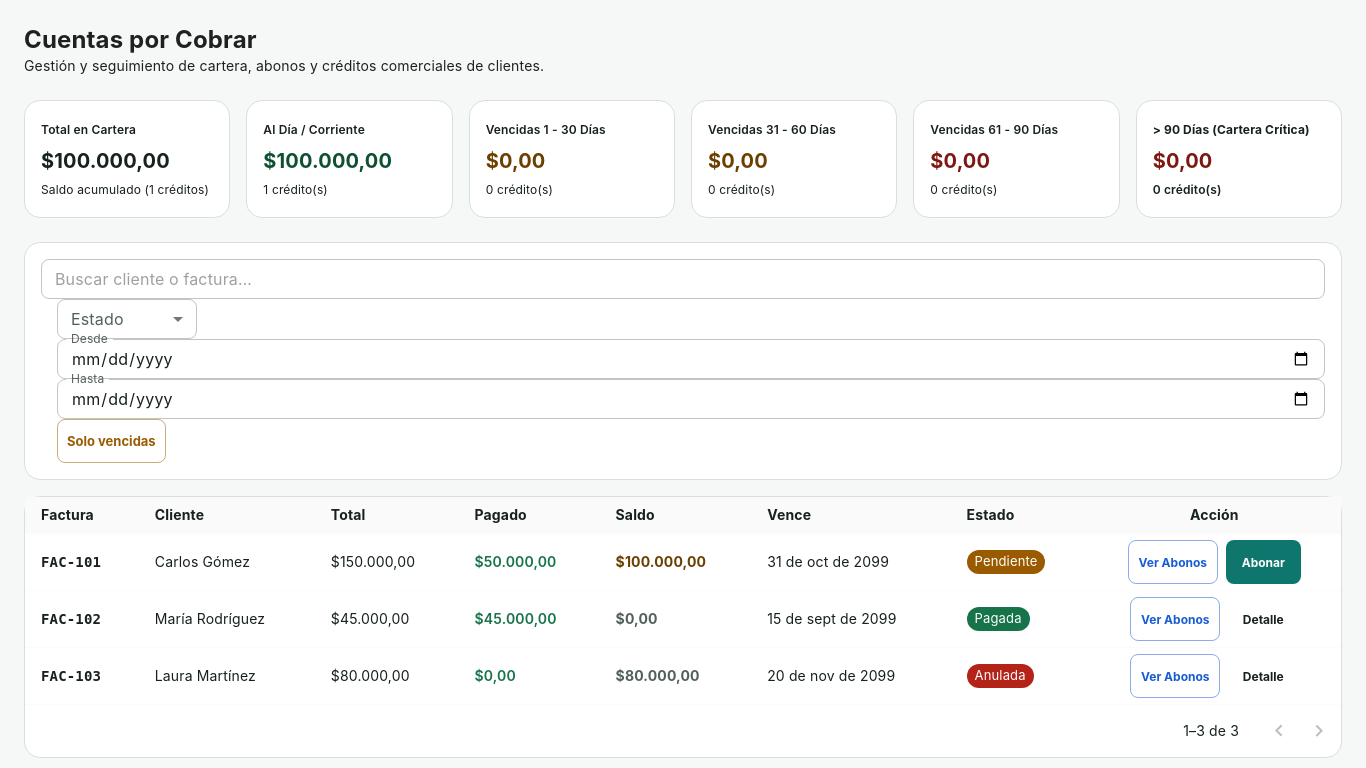
Test case: ReceivablesPage: estados de cartera (FARM-AUD-003) › Caso 4: el filtro Pagada solicita y muestra solo sus registros
The width and height of the screenshot is (1366, 768).
Expected: the text "FAC-101" is shown, [41,554,101,570]
Press the mouse on the dropdown named "Estado" at x=127, y=319, box [57,299,197,339]
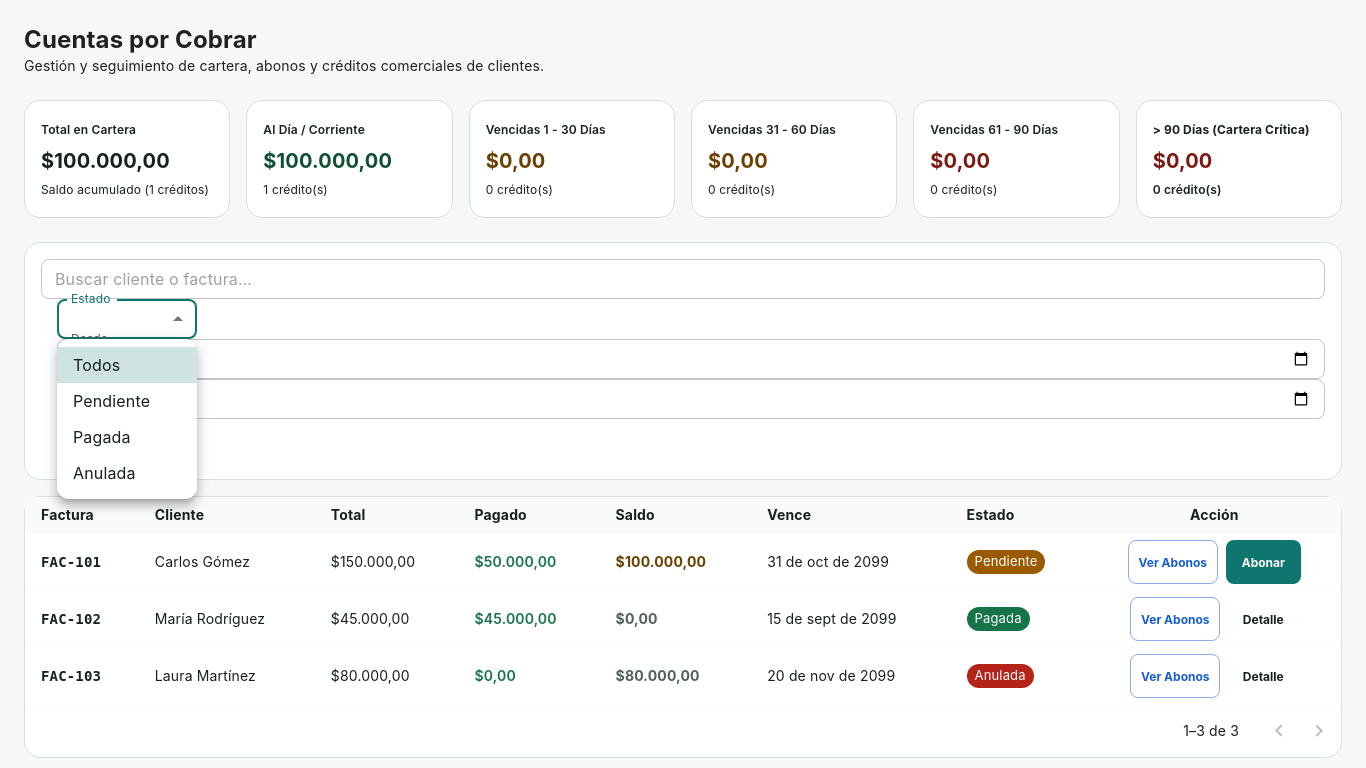
Click the option "Pagada" at x=102, y=437, box [73,427,131,447]
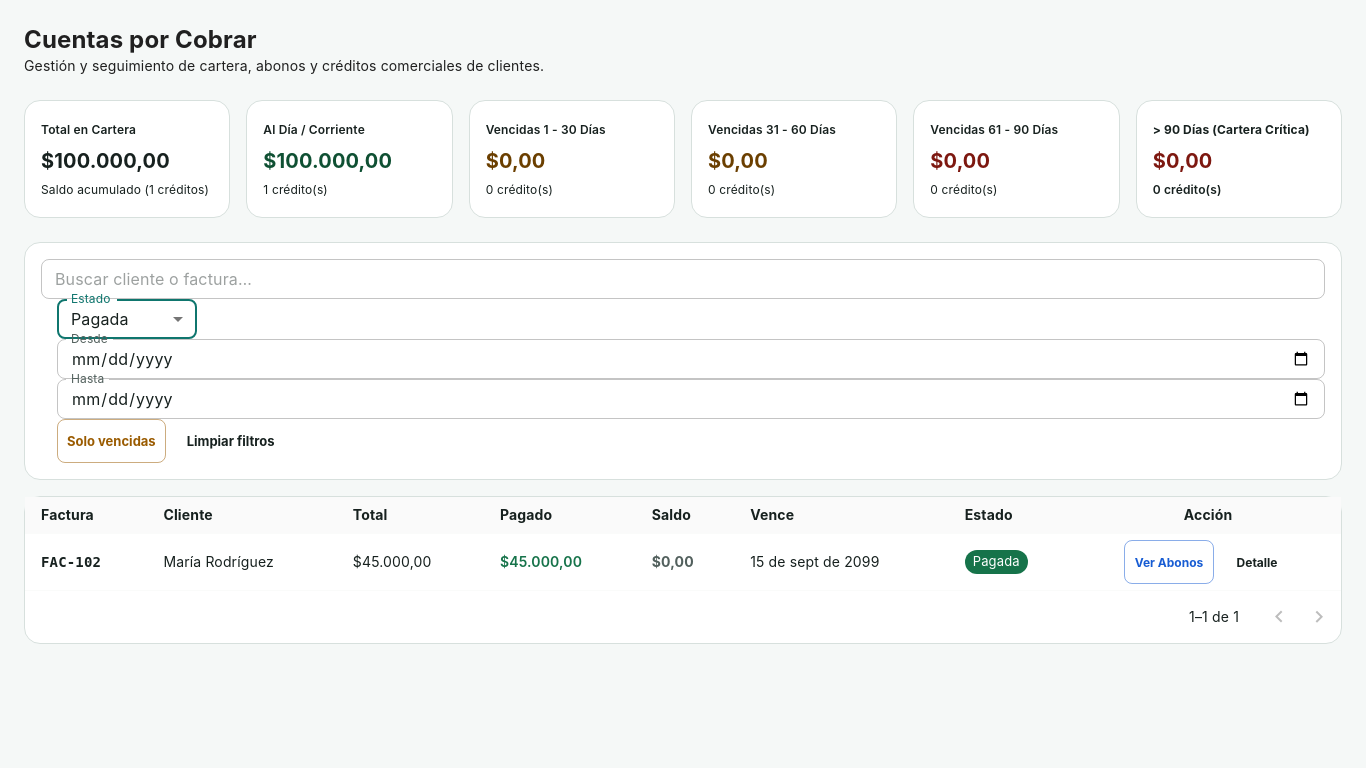
Expected: the text "FAC-102" is shown, [25,534,147,590]
Expected: the text "FAC-101" is gone
Expected: the text "FAC-103" is gone
